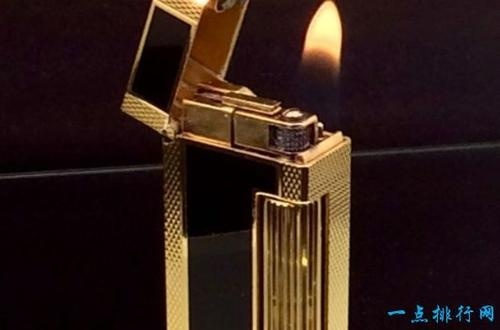fire: (299, 0, 346, 85)
